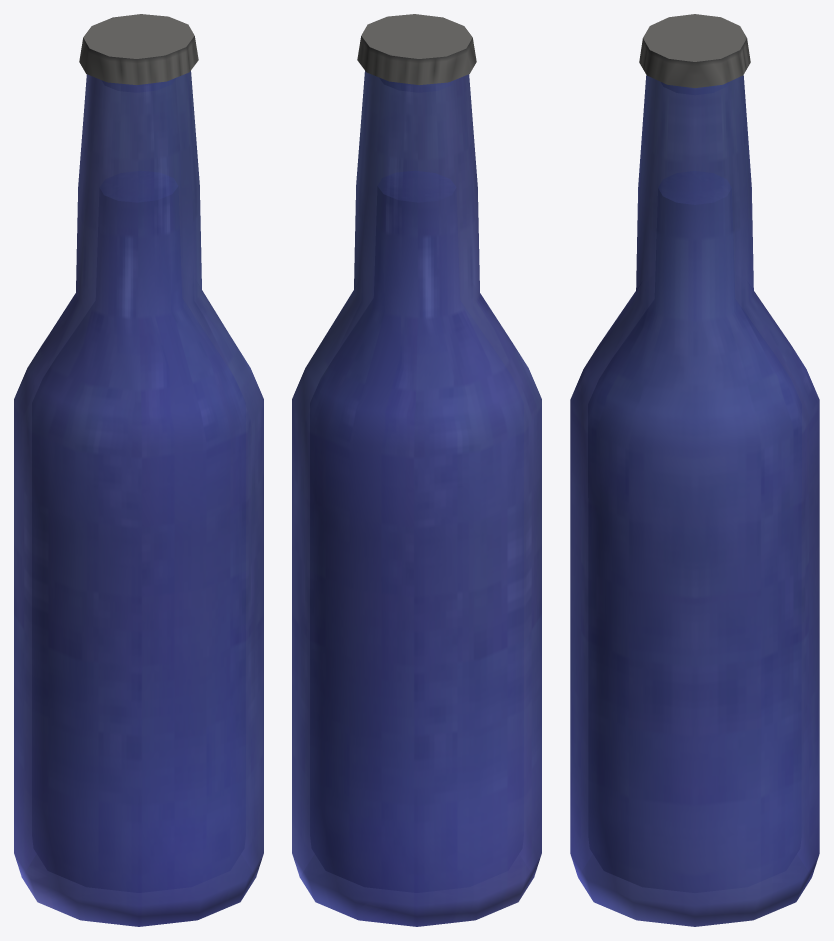
The model's file is drink01a.fbx.
3 renders of one model, left to right at view 1: azimuth 30°, elevation 25°; view 2: azimuth 150°, elevation 25°; view 3: azimuth 270°, elevation 25°, orthographic.
Visible parts, largest first — view 1: drink01a; view 2: drink01a; view 3: drink01a.
Part boxes in pixels (left/top/right/bottom): drink01a: left=14, top=14, right=263, bottom=926; drink01a: left=292, top=14, right=541, bottom=926; drink01a: left=570, top=14, right=819, bottom=926.
Size of the model in its own units: 7.1 by 26.37 by 7.1.
